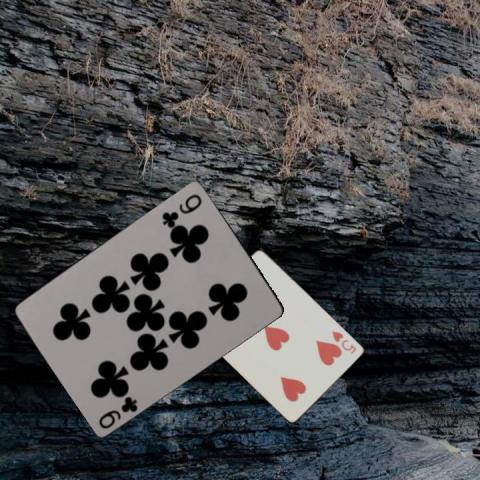5h: (329, 328, 358, 355)
9c: (159, 190, 204, 227), (96, 393, 139, 430)
